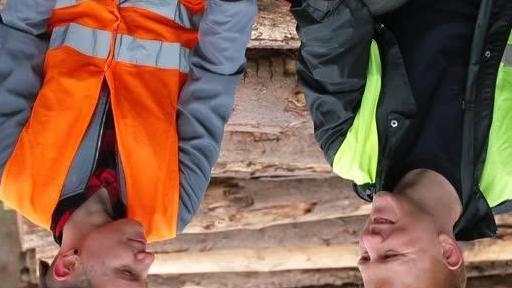Vest: (27, 0, 185, 215)
